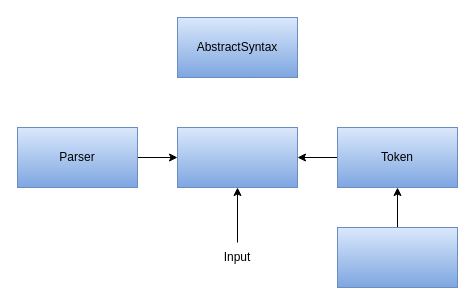
Some shapes in this 475 by 305 pixel diagram are drawn without their labels. The shapes that lost their labels are listed below. From the top down, each one's centre as x and y in pixels, then its label:
At pixel 237 157: "Lexer".
At pixel 397 257: "TokenType".
